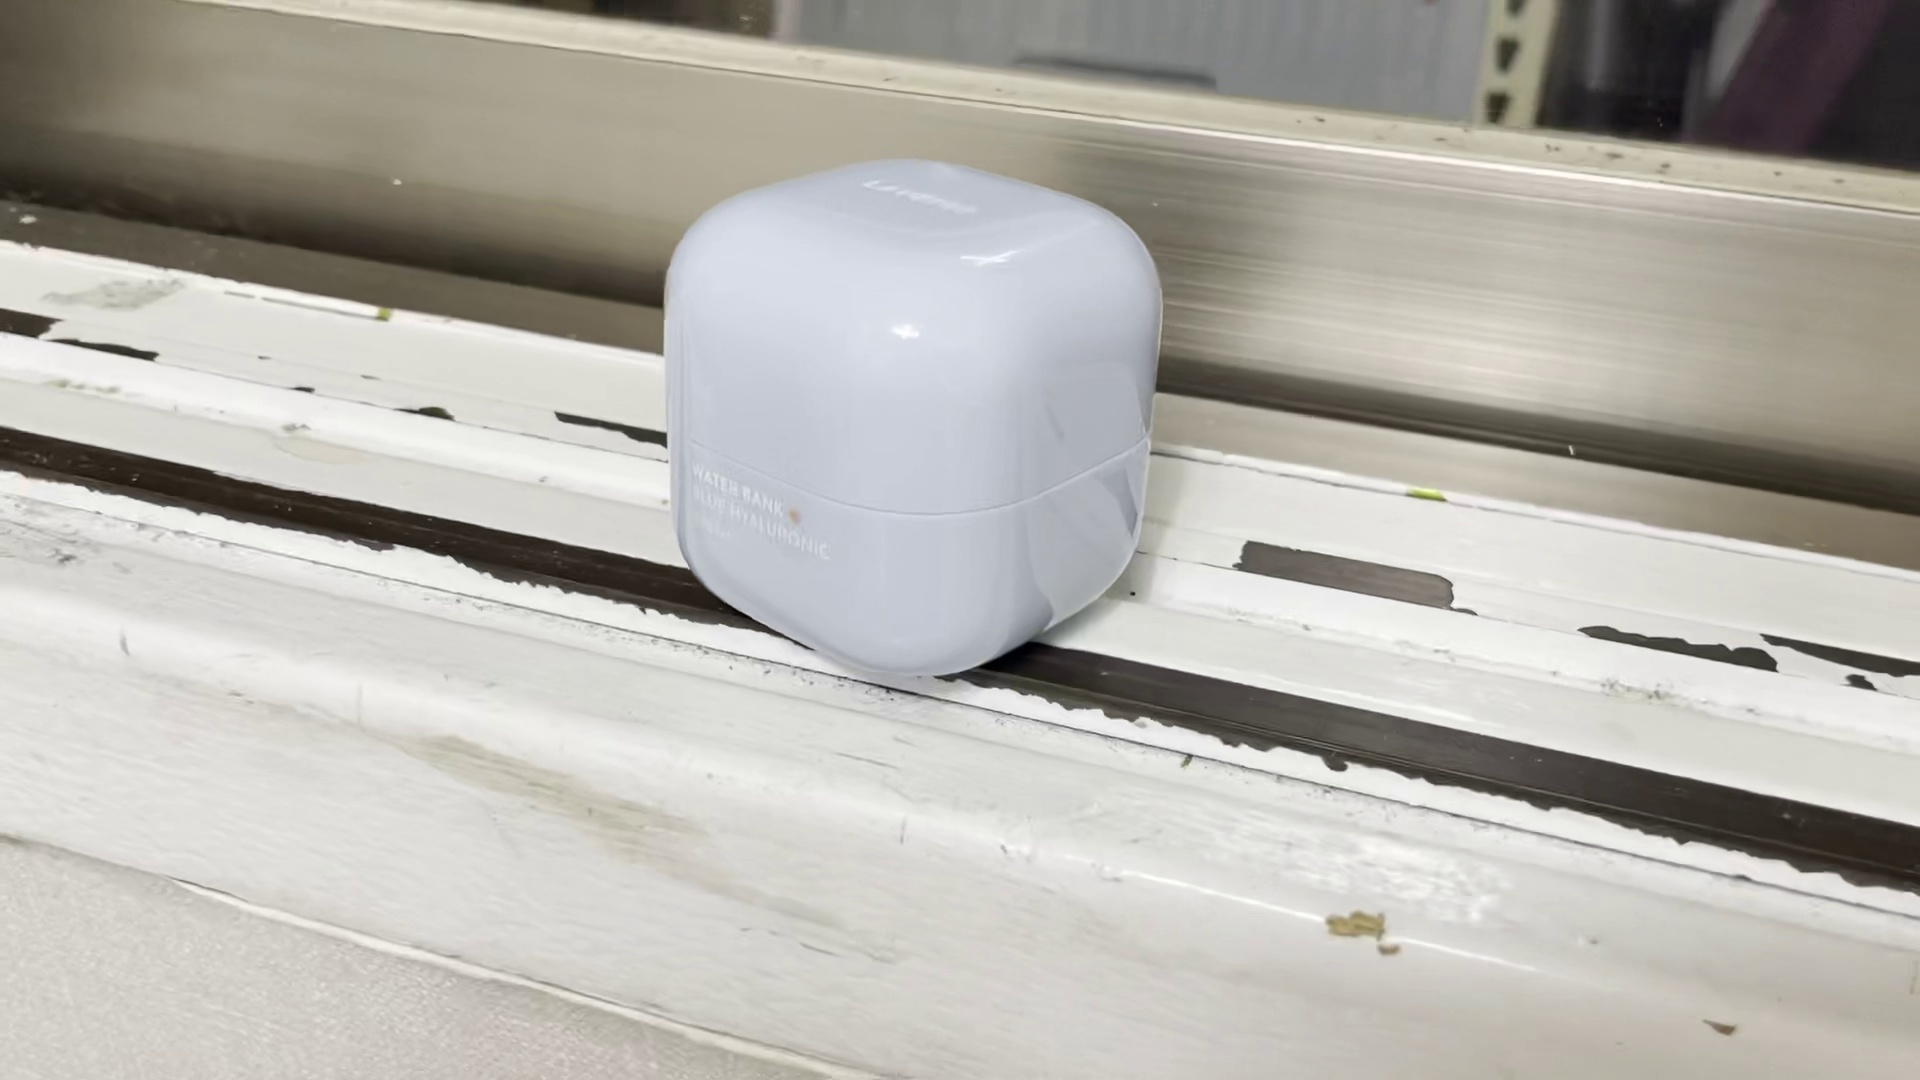cream: (667, 150, 1153, 694)
